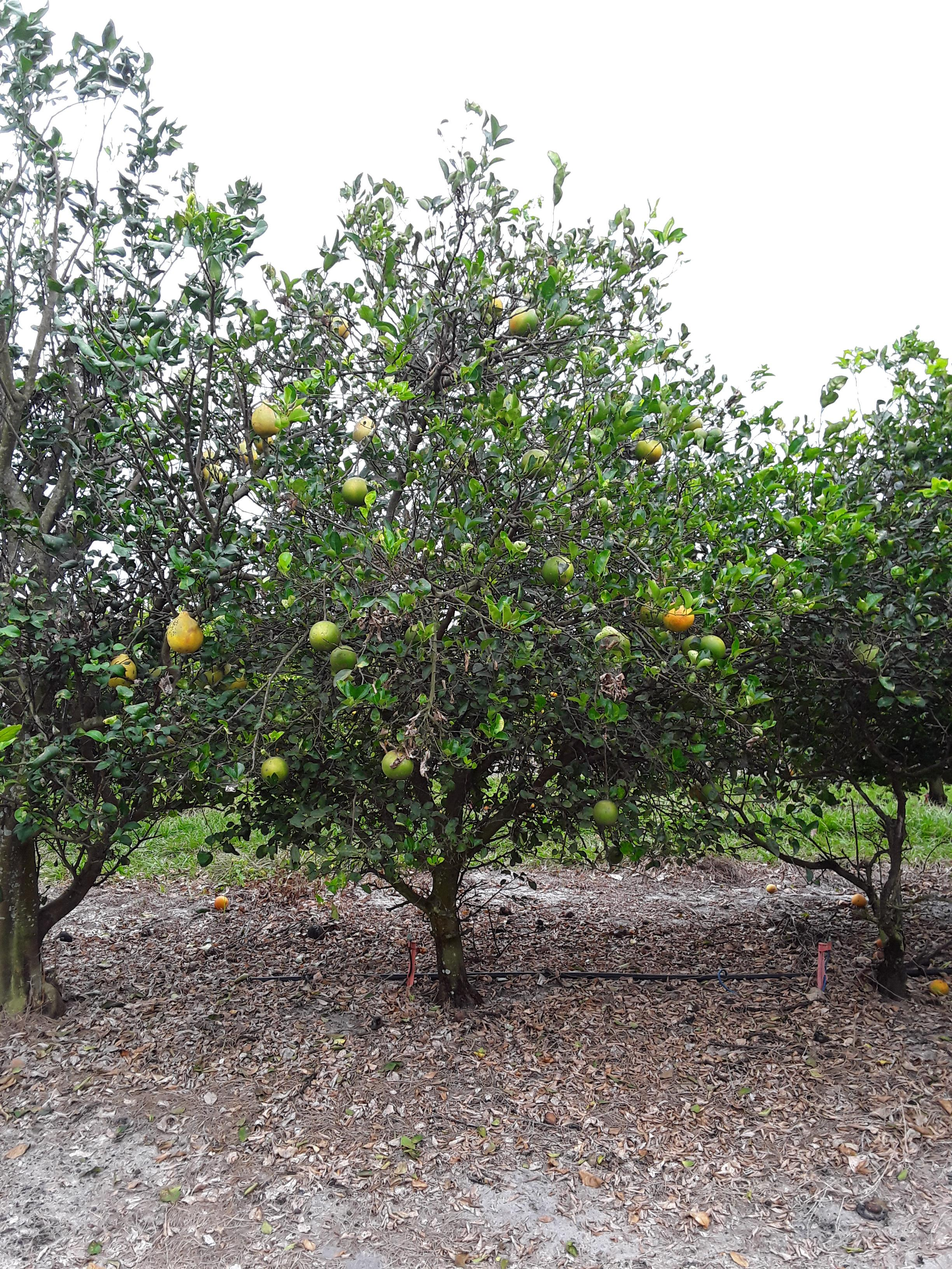fruit_on_ground: (162, 608, 206, 654), (658, 598, 698, 634), (249, 400, 286, 436), (306, 617, 343, 651), (539, 554, 576, 587), (520, 447, 555, 480), (229, 440, 265, 472), (380, 749, 416, 781), (106, 650, 139, 683), (506, 307, 540, 339), (258, 754, 291, 786), (340, 475, 370, 506), (591, 797, 621, 828), (328, 643, 360, 671), (634, 437, 666, 464), (349, 414, 378, 443), (247, 427, 278, 454), (700, 633, 729, 661), (199, 462, 228, 489), (219, 668, 248, 695), (196, 449, 225, 475), (634, 597, 659, 624), (198, 664, 225, 688), (681, 633, 705, 659), (679, 691, 706, 714), (699, 780, 724, 804), (485, 294, 509, 318), (603, 843, 627, 867), (329, 315, 353, 339), (682, 413, 707, 435), (161, 728, 182, 748), (686, 781, 705, 803)
fruit_on_tree: (862, 1196, 889, 1217), (928, 975, 951, 997), (691, 1208, 713, 1230), (304, 922, 326, 941), (849, 891, 869, 909), (811, 1028, 832, 1045), (366, 1013, 385, 1030), (212, 894, 231, 911), (9, 1055, 27, 1071), (870, 946, 887, 961), (542, 1110, 558, 1125), (497, 903, 513, 918), (764, 881, 779, 895), (58, 930, 74, 943), (872, 935, 886, 948)
